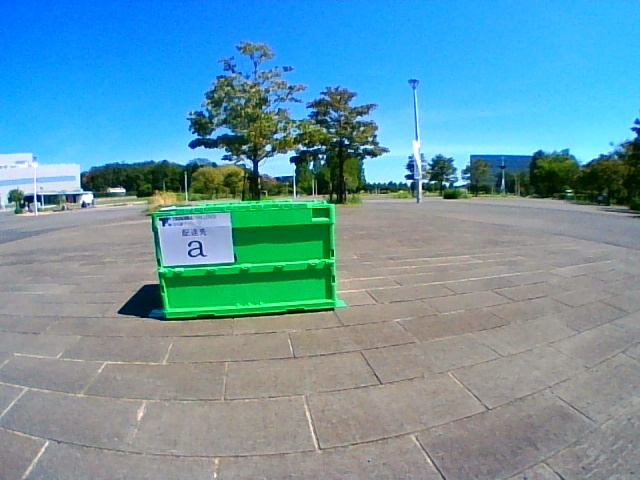green_box: (151, 200, 337, 319)
tag_a: (165, 218, 229, 263)
